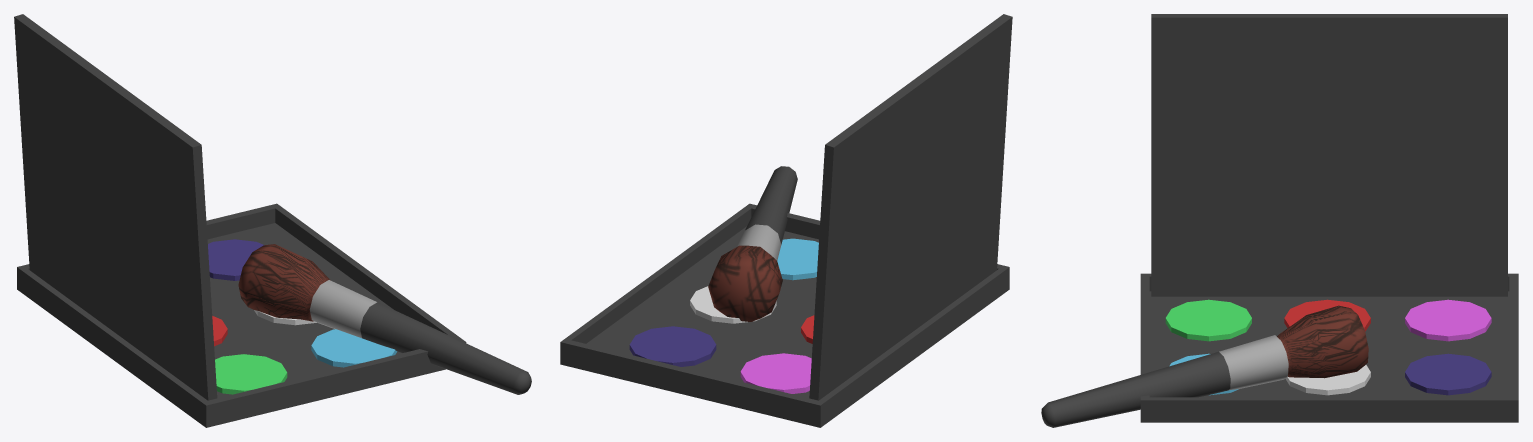
File: makeup.fbx
3 renders of one model, left to right at view 1: azimuth 30°, elevation 25°; view 2: azimuth 150°, elevation 25°; view 3: azimuth 270°, elevation 25°, orthographic.
Visible parts, largest first — view 1: pCube3; view 2: pCube3; view 3: pCube3.
Boxes of the visible parts, x1,y1,x2,y2 form: pCube3: [14, 14, 531, 427]; pCube3: [560, 14, 1012, 427]; pCube3: [1041, 14, 1518, 427].
Bounding box in the file's own units: 13.72 × 12.67 × 19.66.
1 material, 1 textured.
